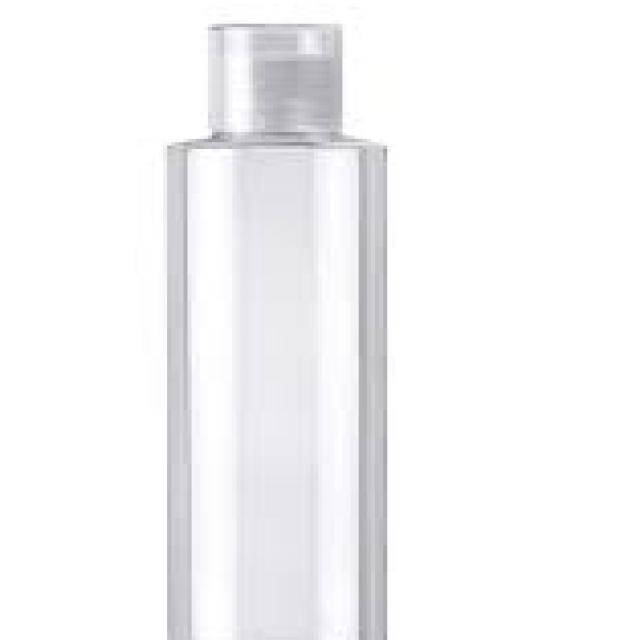organic: (138, 22, 416, 629)
